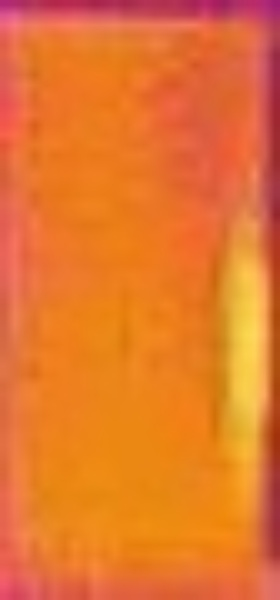Diode: (209, 209, 278, 507)
